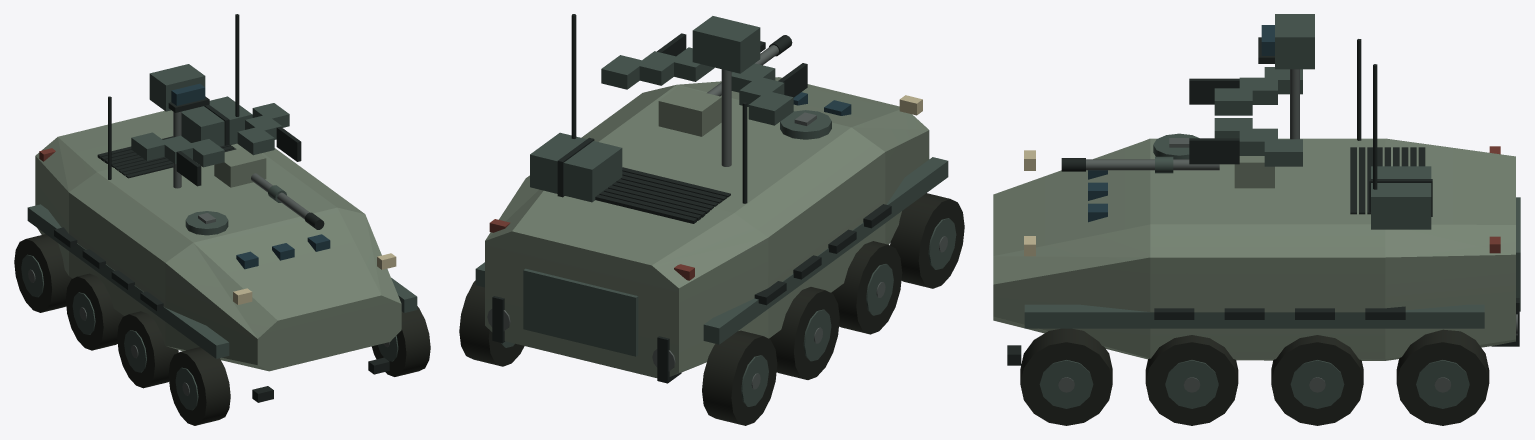
File: reconVehicle.glb
3 renders of one model, left to right at view 1: azimuth 30°, elevation 25°; view 2: azimuth 150°, elevation 25°; view 3: azimuth 270°, elevation 25°, orthographic. The views are drawn at different scales.
Visible parts, largest first — view 1: armor (×2), equipment (×3), glass (×2); view 2: armor (×2), equipment (×3), glass; view 3: armor (×2), equipment (×3), glass.
Boxes of the visible parts, x1,y1,x2,y2 form: armor (×2): [35, 110, 401, 371]; equipment (×3): [14, 14, 430, 425]; glass (×2): [171, 83, 330, 269]; armor (×2): [485, 77, 929, 377]; equipment (×3): [459, 14, 964, 425]; glass: [793, 92, 851, 115]; armor (×2): [993, 138, 1515, 360]; equipment (×3): [1007, 14, 1520, 425]; glass: [1088, 170, 1107, 222].
Size of the model in its own units: 3.19 by 3.65 by 5.24.
